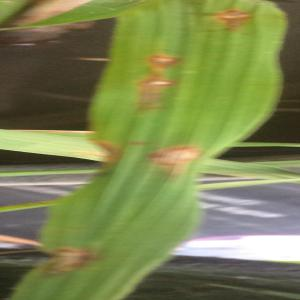Rice_Blast: (150, 122, 231, 186), (33, 239, 104, 277), (123, 67, 184, 109), (80, 131, 128, 182), (134, 34, 187, 71), (211, 6, 261, 37)
